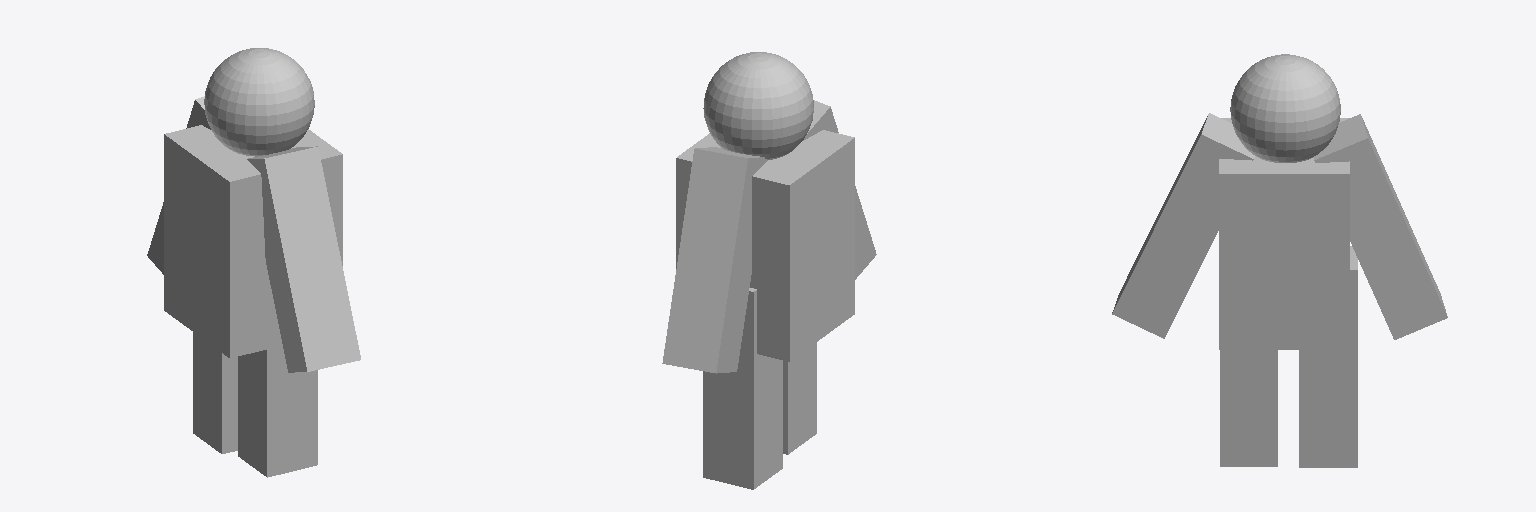
The model's file is monstruo1.obj.
3 views of the same model, side by side, from view 1: azimuth 30°, elevation 25°; view 2: azimuth 150°, elevation 25°; view 3: azimuth 270°, elevation 25° (orthographic).
Parts seen in each view (by area): view 1: Cube, Cube.004, Sphere, Cube.001, Cube.002, Cube.003; view 2: Cube, Cube.003, Cube.002, Sphere, Cube.001, Cube.004; view 3: Cube, Cube.004, Cube.003, Sphere, Cube.002, Cube.001.
Boxes of the visible parts, box(x1,y1,x2,y2) form: Cube: box(164, 125, 342, 357); Cube.004: box(247, 146, 360, 372); Sphere: box(204, 48, 314, 156); Cube.001: box(238, 346, 317, 477); Cube.002: box(193, 332, 237, 453); Cube.003: box(147, 96, 210, 274); Cube: box(676, 130, 854, 361); Cube.003: box(662, 147, 767, 373); Cube.002: box(703, 288, 782, 489); Sphere: box(703, 52, 813, 159); Cube.001: box(783, 342, 816, 454); Cube.004: box(803, 100, 876, 279); Cube: box(1219, 118, 1349, 349); Cube.004: box(1112, 113, 1254, 338); Cube.003: box(1313, 114, 1447, 339); Sphere: box(1230, 54, 1340, 162); Cube.002: box(1299, 246, 1357, 467); Cube.001: box(1220, 350, 1277, 466).
Bounding box in the file's own units: 4.49 × 15.09 × 11.52.